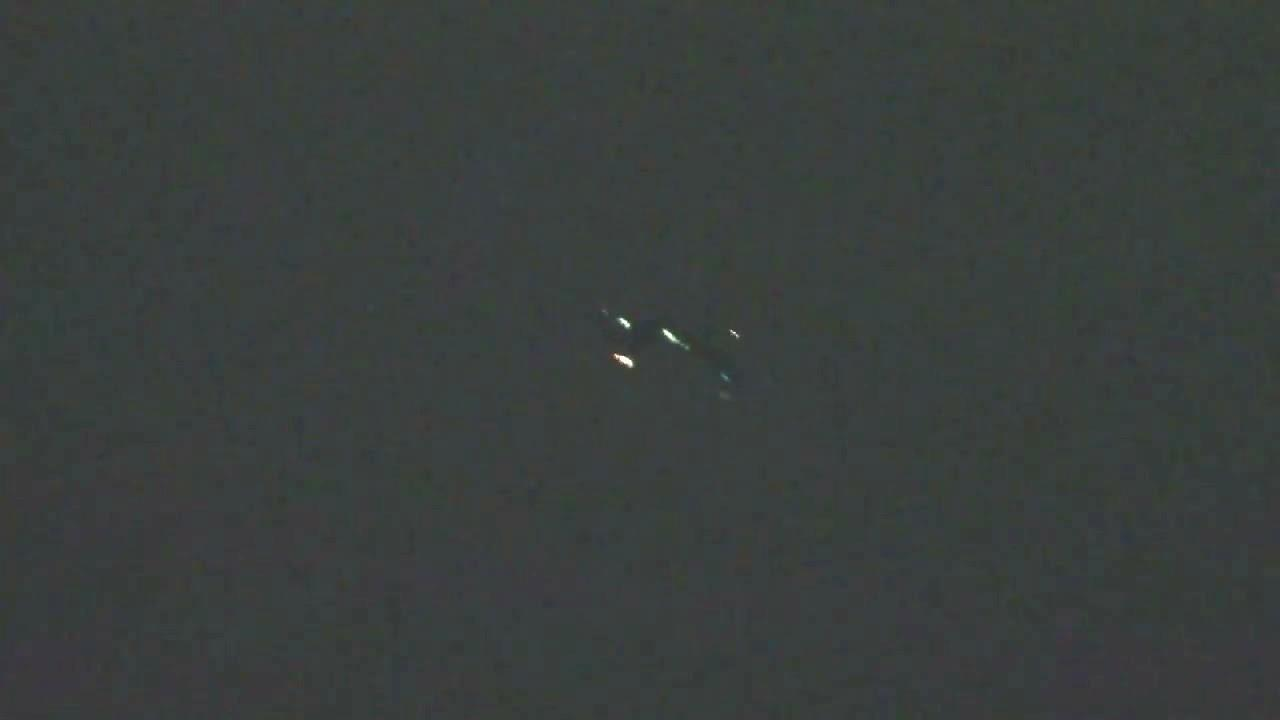Plane: (564, 291, 775, 426)
